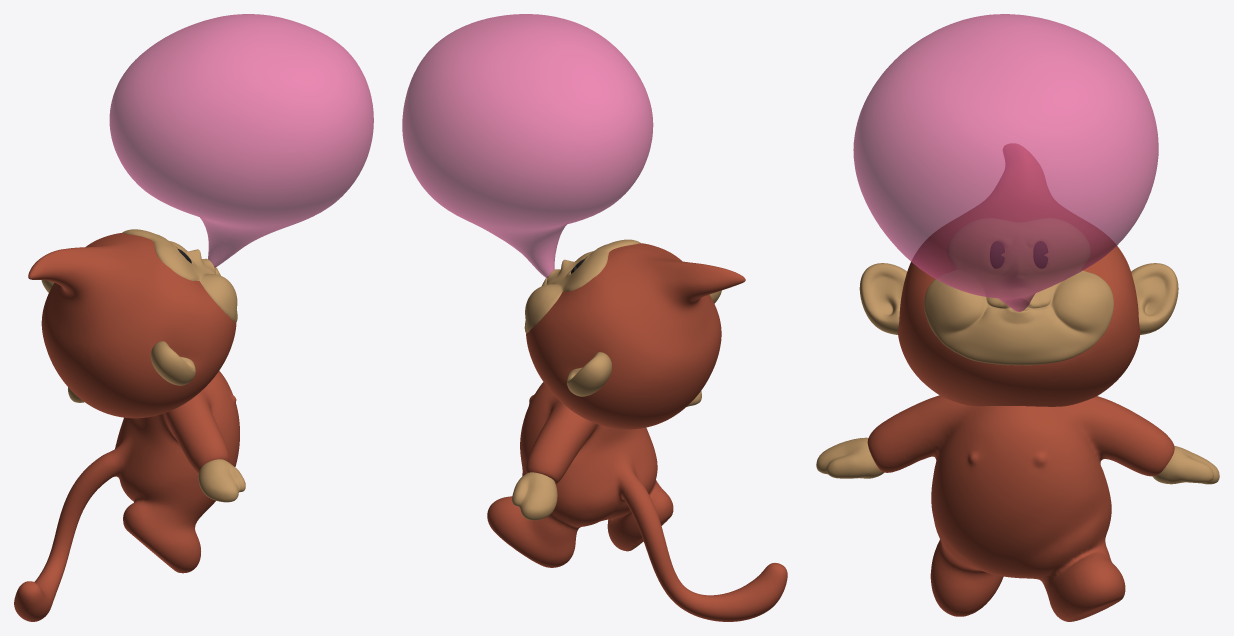
The model's file is bubble.glb.
3 views of the same model, side by side, from view 1: azimuth 30°, elevation 25°; view 2: azimuth 150°, elevation 25°; view 3: azimuth 270°, elevation 25° (orthographic). The views are drawn at different scales.
Visible parts, largest first — view 1: gum, head, body, face, hand R, ears; view 2: gum, head, body, face, hand L, ears; view 3: gum, body, head, face, ears, hand R, hand L.
Boxes of the visible parts, x1,y1,x2,y2 form: gum: [109, 14, 373, 267]; head: [28, 233, 236, 418]; body: [14, 370, 239, 621]; face: [122, 229, 237, 322]; hand R: [198, 459, 245, 502]; ears: [41, 280, 195, 385]; gum: [402, 14, 653, 278]; head: [526, 243, 745, 429]; body: [487, 382, 787, 621]; face: [524, 239, 640, 333]; hand L: [512, 472, 557, 520]; ears: [567, 290, 721, 396]; gum: [853, 14, 1158, 311]; body: [867, 395, 1174, 621]; head: [898, 143, 1140, 406]; face: [924, 218, 1113, 365]; ears: [859, 263, 1178, 334]; hand R: [816, 437, 884, 478]; hand L: [1152, 446, 1219, 484].
Bounding box in the file's own units: 3.08 × 4.5 × 2.48.
